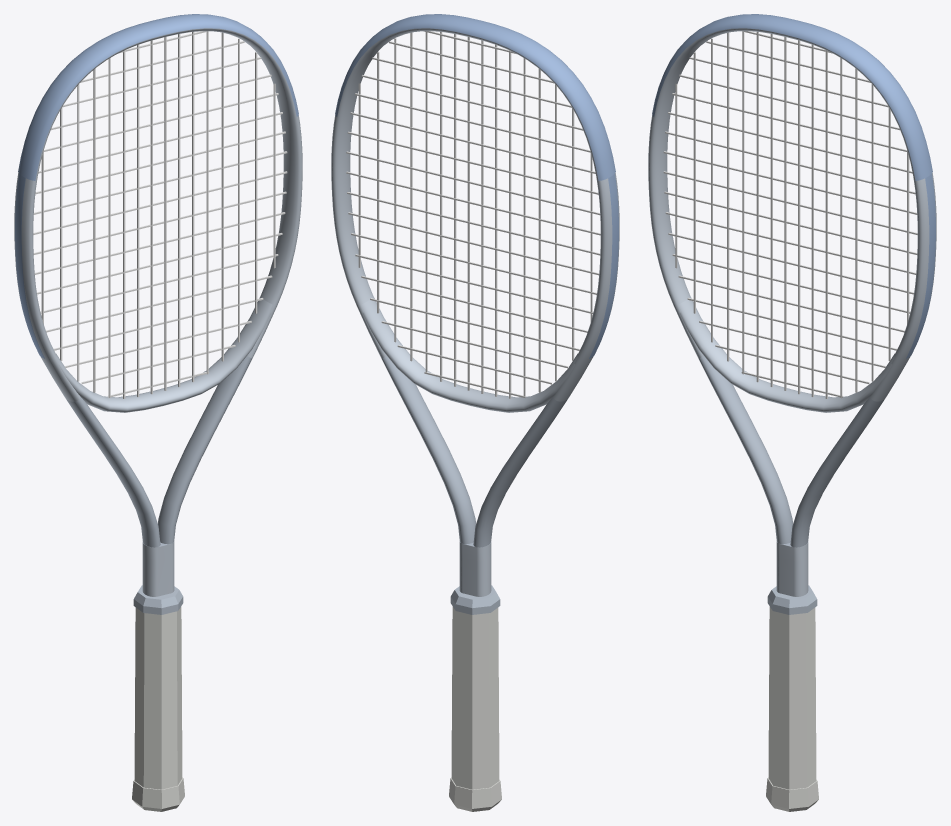
The model's file is yonex-muse-98-2026.glb.
3 views of the same model, side by side, from view 1: azimuth 30°, elevation 25°; view 2: azimuth 150°, elevation 25°; view 3: azimuth 330°, elevation 25° (orthographic).
Parts seen in each view (by area): view 1: frame, strings_mains, strings_crosses, grip, bumper, grommets, butt_cap, collar; view 2: frame, strings_mains, strings_crosses, grip, bumper, grommets, butt_cap, collar; view 3: frame, strings_mains, strings_crosses, grip, bumper, grommets, butt_cap, collar.
Boxes of the visible parts, <box> form: frame: <box>14,28,302,596</box>; strings_mains: <box>41,31,275,398</box>; strings_crosses: <box>33,31,287,397</box>; grip: <box>134,606,182,789</box>; bumper: <box>18,14,298,180</box>; grommets: <box>15,174,44,358</box>; butt_cap: <box>132,777,184,811</box>; collar: <box>133,585,183,614</box>; frame: <box>331,28,619,596</box>; strings_mains: <box>358,32,592,398</box>; strings_crosses: <box>346,31,600,397</box>; grip: <box>451,606,499,789</box>; bumper: <box>335,14,615,180</box>; grommets: <box>589,174,618,358</box>; butt_cap: <box>449,777,501,811</box>; collar: <box>450,585,500,614</box>; frame: <box>648,28,936,596</box>; strings_mains: <box>675,31,909,398</box>; strings_crosses: <box>663,31,917,397</box>; grip: <box>768,606,816,789</box>; bumper: <box>652,14,932,180</box>; grommets: <box>906,174,935,358</box>; butt_cap: <box>766,777,818,811</box>; collar: <box>767,585,817,614</box>.
Size of the model in its own units: 0.2594 by 0.6861 by 0.0396.
